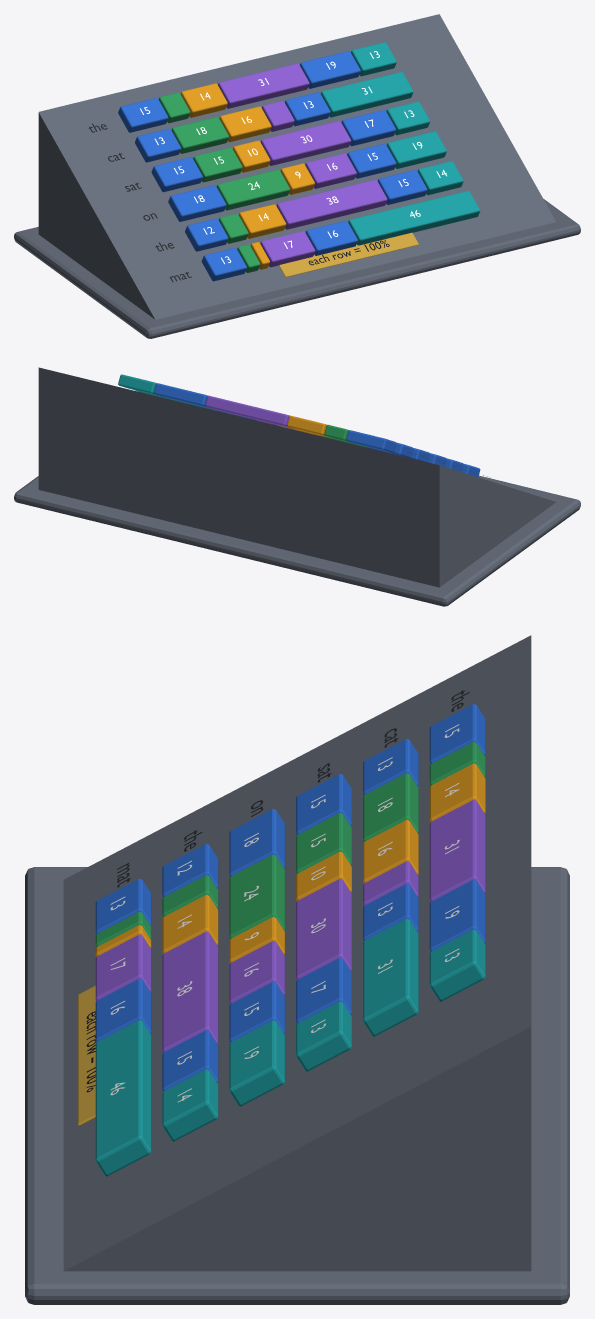
The model's file is softmax.glb.
3 views of the same model, one above another, from view 1: azimuth 30°, elevation 25°; view 2: azimuth 150°, elevation 25°; view 3: azimuth 270°, elevation 25° (orthographic). The views are drawn at different scales.
Parts seen in each view (by area): view 1: slope, stand, s5.005, s3.004, s0, s0.003, s0.002, s5.001, s3, s3.002, s0.005, s0.004 (+19 smaller); view 2: slope, stand, s0, s3, s2, s5; view 3: slope, stand, s5.005, s3.004, s5.001, s0, s0.003, s0.002, s3, s3.002, s0.005, s0.004 (+19 smaller).
Boxes of the visible parts, x1,y1,x2,y2 form: slope: (38,14,555,319); stand: (14,199,580,338); s5.005: (348,190,480,245); s3.004: (276,179,387,229); s0: (118,51,360,132); s0.003: (168,143,396,221); s0.002: (151,110,395,192); s5.001: (320,72,413,117); s3: (218,63,309,108); s3.002: (260,120,351,165); s0.005: (201,220,357,281); s0.004: (185,169,427,251); slope: (38,367,555,587); stand: (14,475,580,606); s0: (154,383,396,452); s3: (205,395,293,428); s2: (287,415,331,438); s5: (118,374,161,396); slope: (63,635,531,1271); stand: (25,867,569,1304); s5.005: (95,1020,151,1176); s3.004: (162,931,218,1052); s5.001: (363,918,418,1036); s0: (429,703,485,951); s0.003: (229,808,284,1042); s0.002: (296,773,351,1023); s3: (429,799,485,901); s3.002: (296,878,351,979); s0.005: (95,878,151,1042); s0.004: (162,843,218,1091).
Bounding box in the file's own units: 1.3 × 0.38 × 0.7062.
